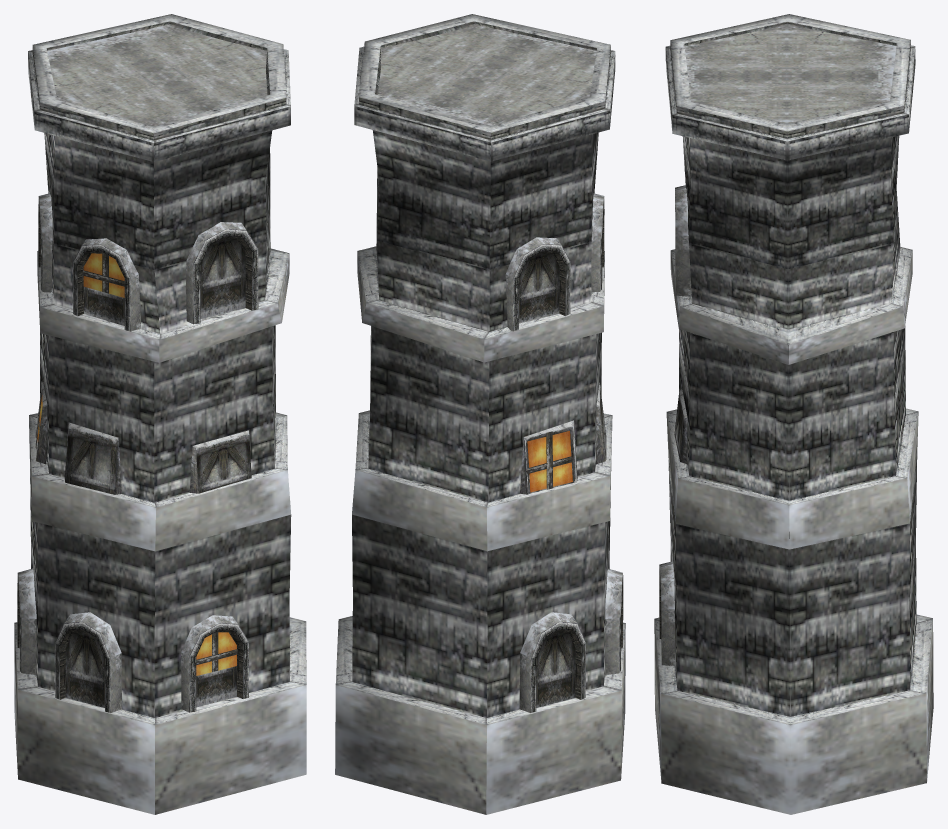
Rendered from S_Build_Snowland030.FBX.
The picture shows the model from 3 angles, left to right: view 1: azimuth 30°, elevation 25°; view 2: azimuth 150°, elevation 25°; view 3: azimuth 270°, elevation 25°; orthographic projection.
Parts seen in each view (by area): view 1: S_Build_Snowland030; view 2: S_Build_Snowland030; view 3: S_Build_Snowland030.
Boxes of the visible parts, x1,y1,x2,y2 form: S_Build_Snowland030: (14,14,306,814); S_Build_Snowland030: (335,14,625,814); S_Build_Snowland030: (654,14,933,814).
Bounding box in the file's own units: 818 × 693 × 1840.
